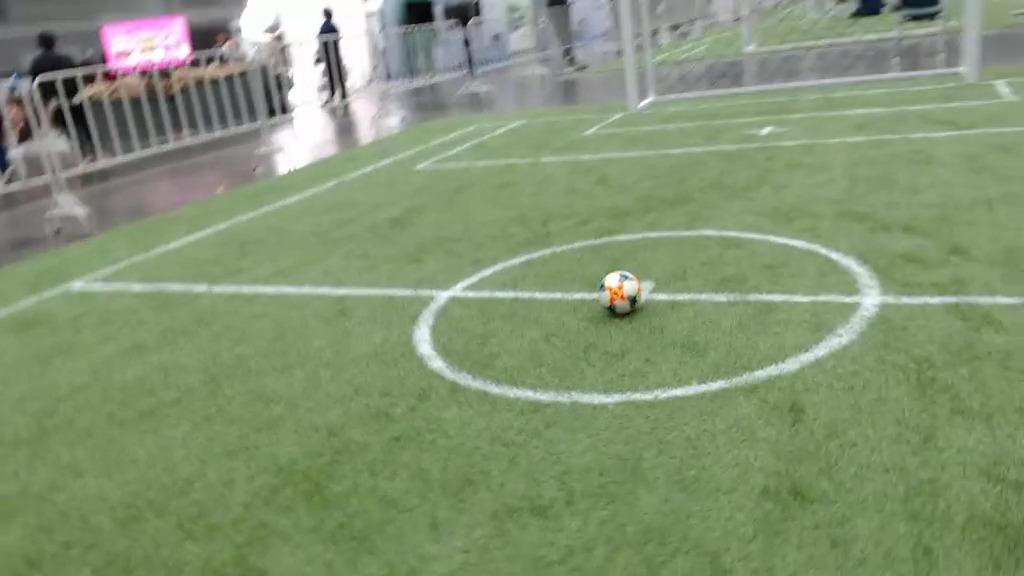ball: (601, 269, 643, 316)
